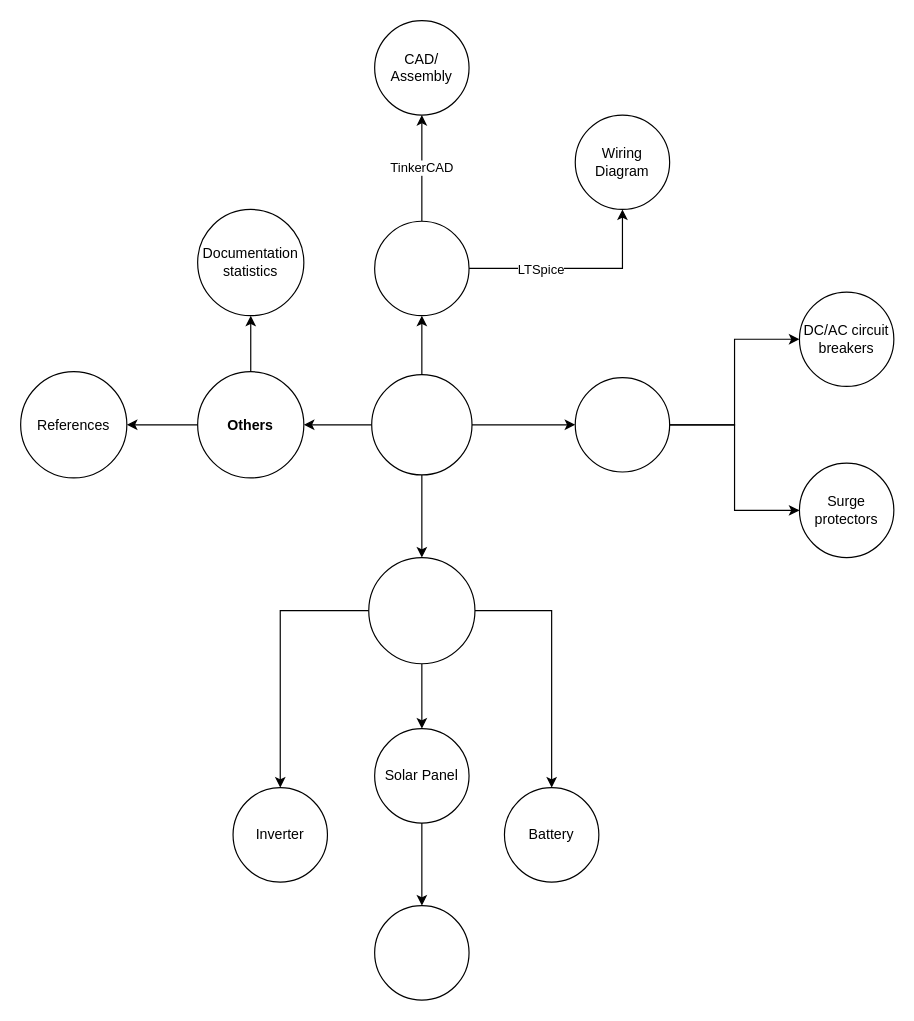
The diagram is 914 pixels wide and 1021 high, and some of its shapes have lost their labels. The centre of each missing label's shape, as x and y in pixels:
Components (Energy generation and storage): (421,610)
Components (Safety): (622,424)
Design Cycle: (421,424)
Portrayal: (421,268)
Solar Panel connectors: (421,952)
